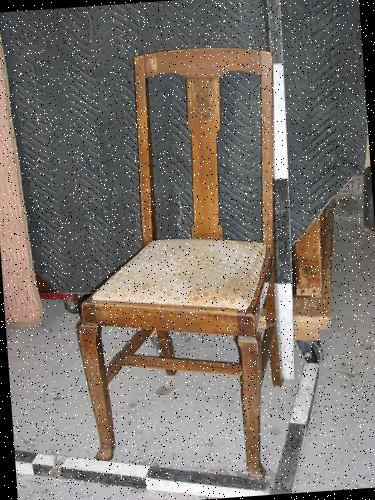Silla: (69, 44, 298, 481)
